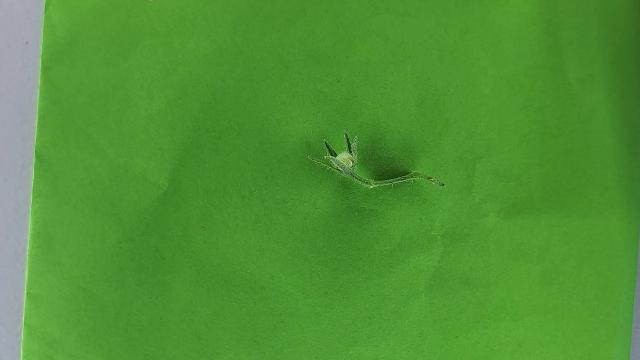Fruit Bud: (323, 131, 356, 172)
